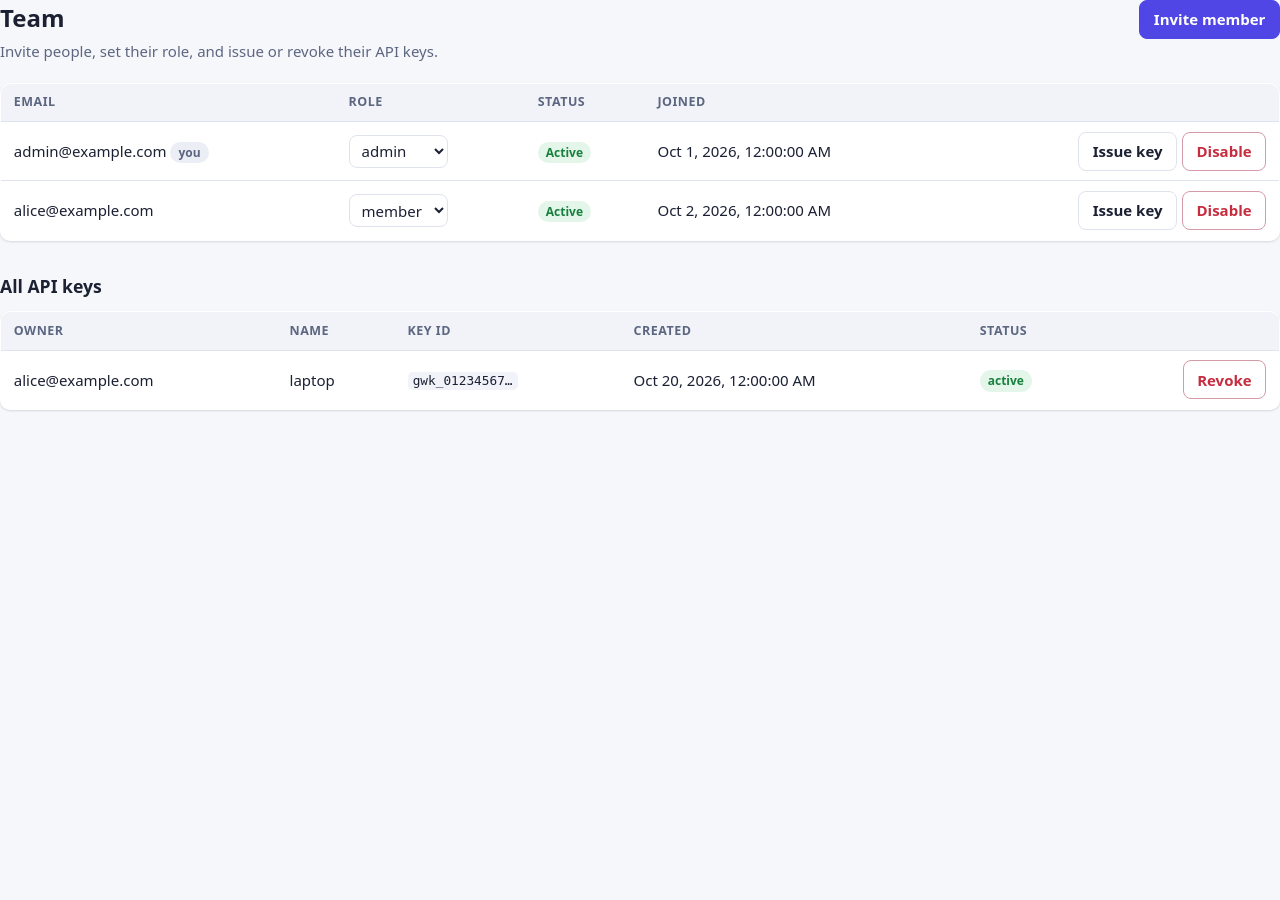
it: TeamPage › issues a key for another user and reveals it once
The image size is (1280, 900).
Click the button "Issue key" in the row of "Oct 2, 2026, 12:00:00 AM" at (1128, 211), box top-left (1078, 191), bottom-right (1177, 230)
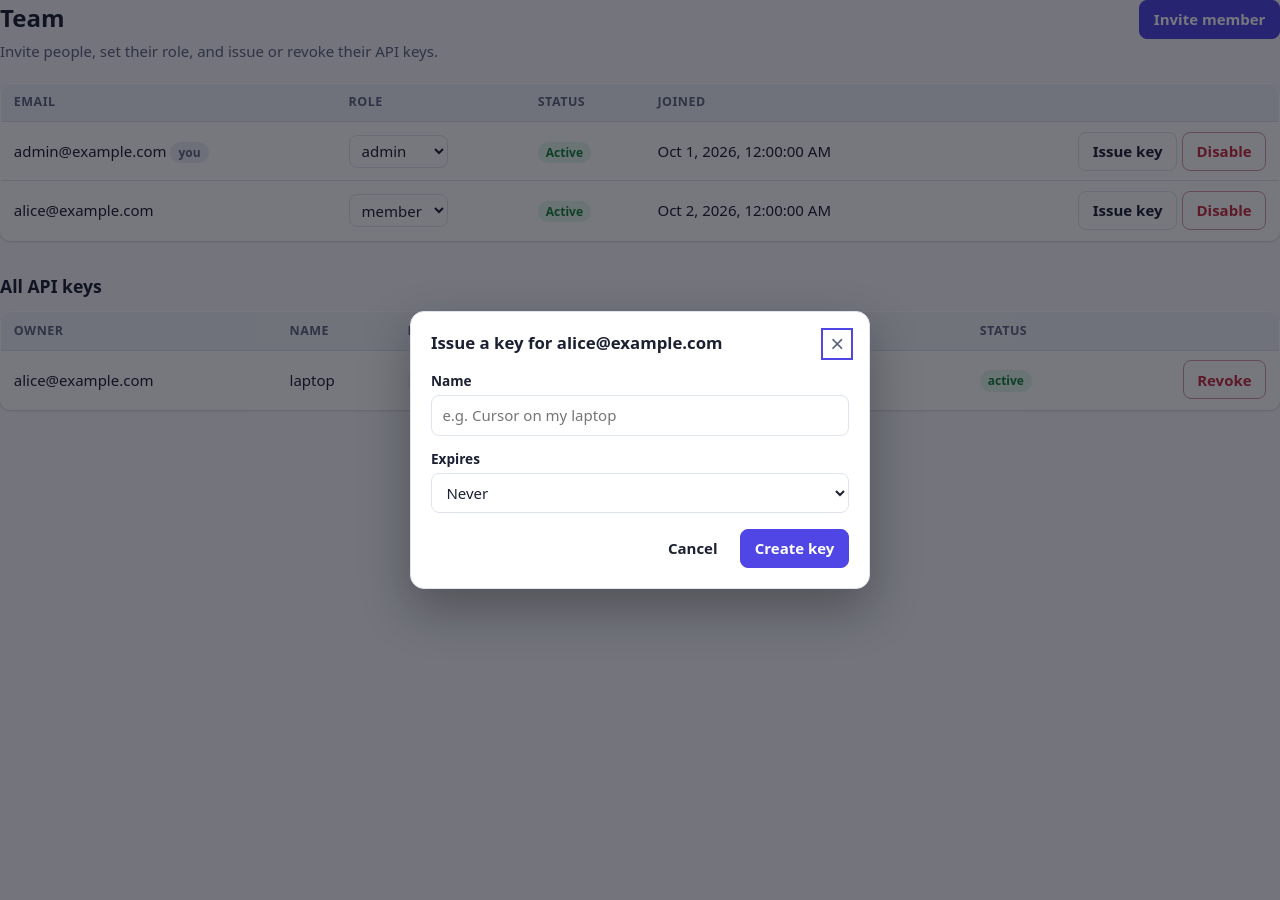
Type "for alice" into the field labelled "Name" at (640, 416), box top-left (431, 395), bottom-right (849, 436)
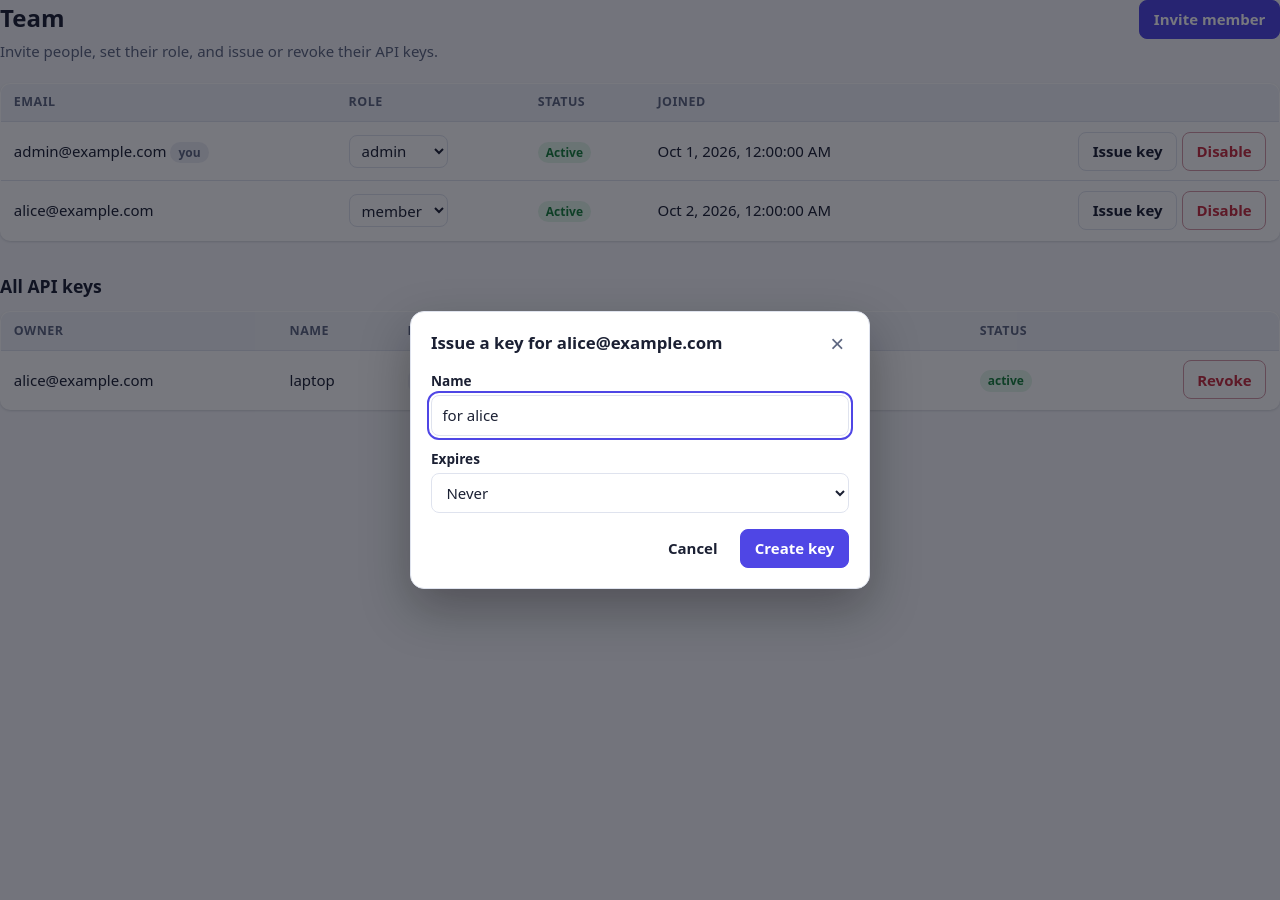
Click the button "Create key" at (795, 548), box top-left (740, 529), bottom-right (849, 568)
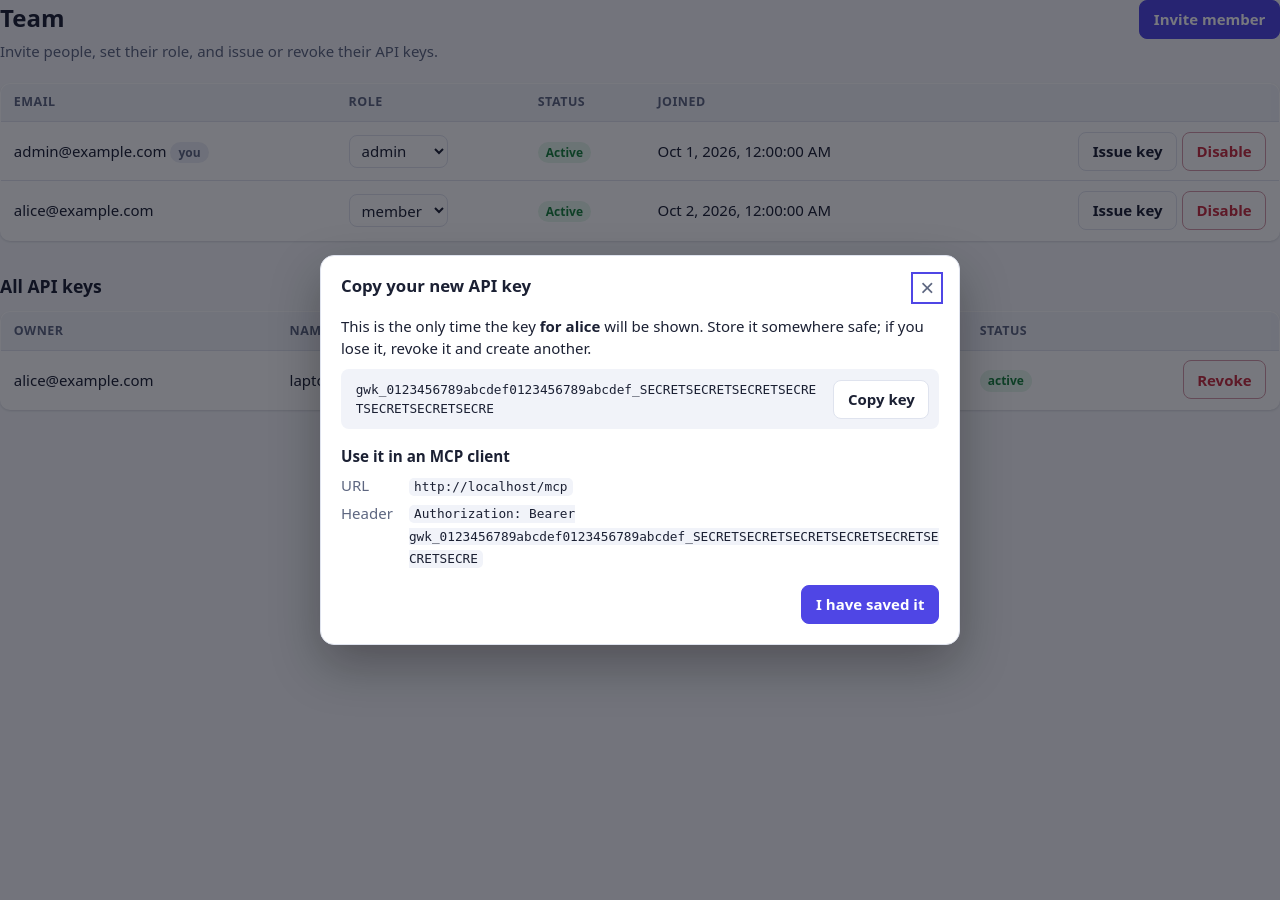
Expected: the text with test id "issued-key" reads "gwk_0123456789abcdef0123456789abcdef_SECRETSECRETSECRETSECRETSECRETSECRETSECRE", top-left (356, 382), bottom-right (816, 416)
